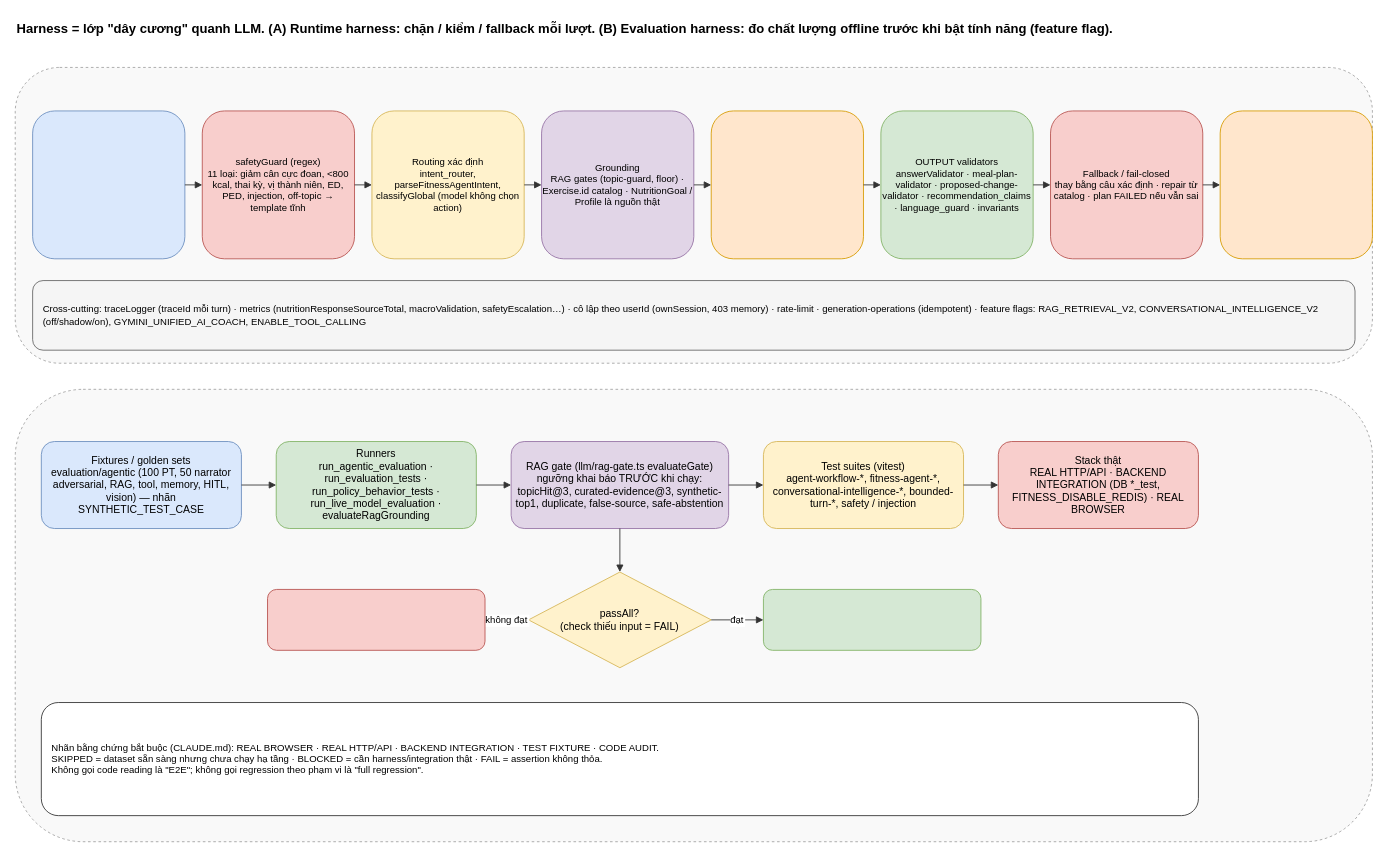
This 1388x857 diagram has some shape labels left out. The box of each missing label's shape, as (x1, y1, x2, y2) in pixels:
A. RUNTIME HARNESS — mọi output của LLM đều đi qua các lớp này: (14, 67, 1372, 363)
B. EVALUATION HARNESS — chạy offline / CI, tách khỏi code production: (14, 388, 1372, 842)
Bật flag: shadow → on (shadow: log cạnh kết quả cũ, hành vi không đổi): (763, 589, 981, 650)
Confirmation boundary ghi dữ liệu chỉ sau thẻ xác nhận: (1219, 110, 1372, 259)
Giữ OFF + ghi báo cáo (vd RAG V2 vẫn OFF: heldout chưa đạt): (267, 589, 485, 650)
INPUT languageGuard (vi/en, không dấu): (32, 110, 185, 259)
LLM call callLlmJson: JSON-mode + Zod + retry 2 · timeout · token floor: (710, 110, 863, 259)
